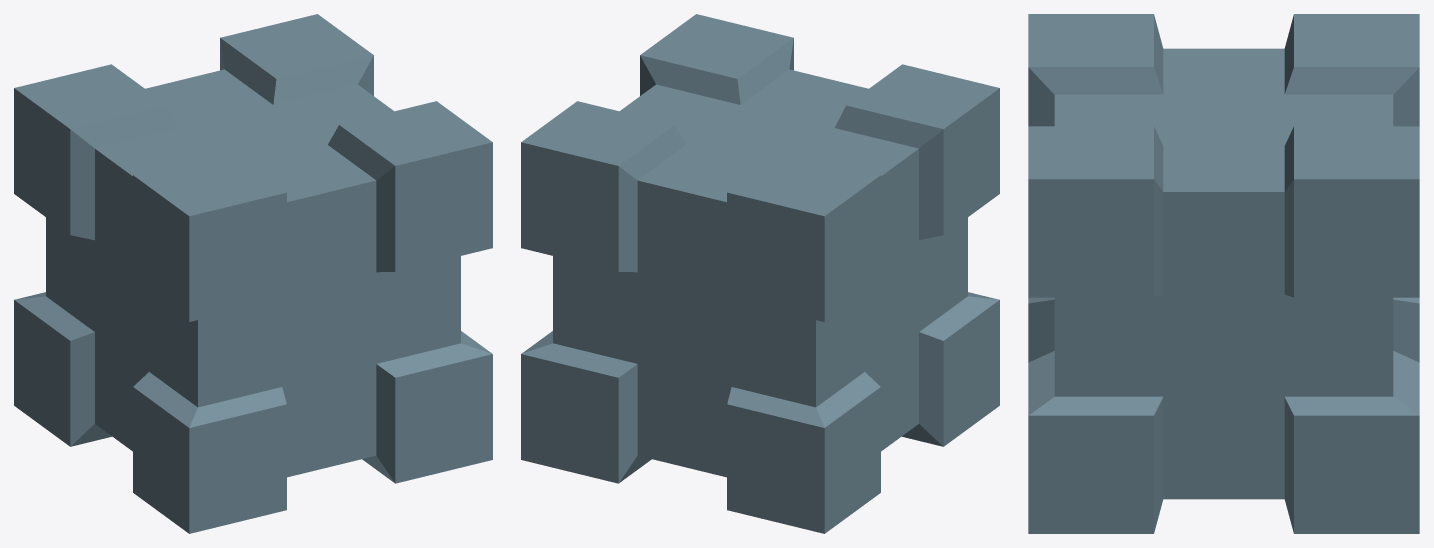
Rendered from q-crate.gltf.
The picture shows the model from 3 angles, left to right: view 1: azimuth 30°, elevation 25°; view 2: azimuth 150°, elevation 25°; view 3: azimuth 270°, elevation 25°; orthographic projection. The views are drawn at different scales.
Visible parts, largest first — view 1: Prop_Crate3; view 2: Prop_Crate3; view 3: Prop_Crate3.
Part boxes in pixels (x1,y1,x2,y2): Prop_Crate3: [14, 14, 492, 533]; Prop_Crate3: [521, 14, 999, 533]; Prop_Crate3: [1028, 14, 1419, 533].
Bounding box in the file's own units: 1 × 1 × 1.
